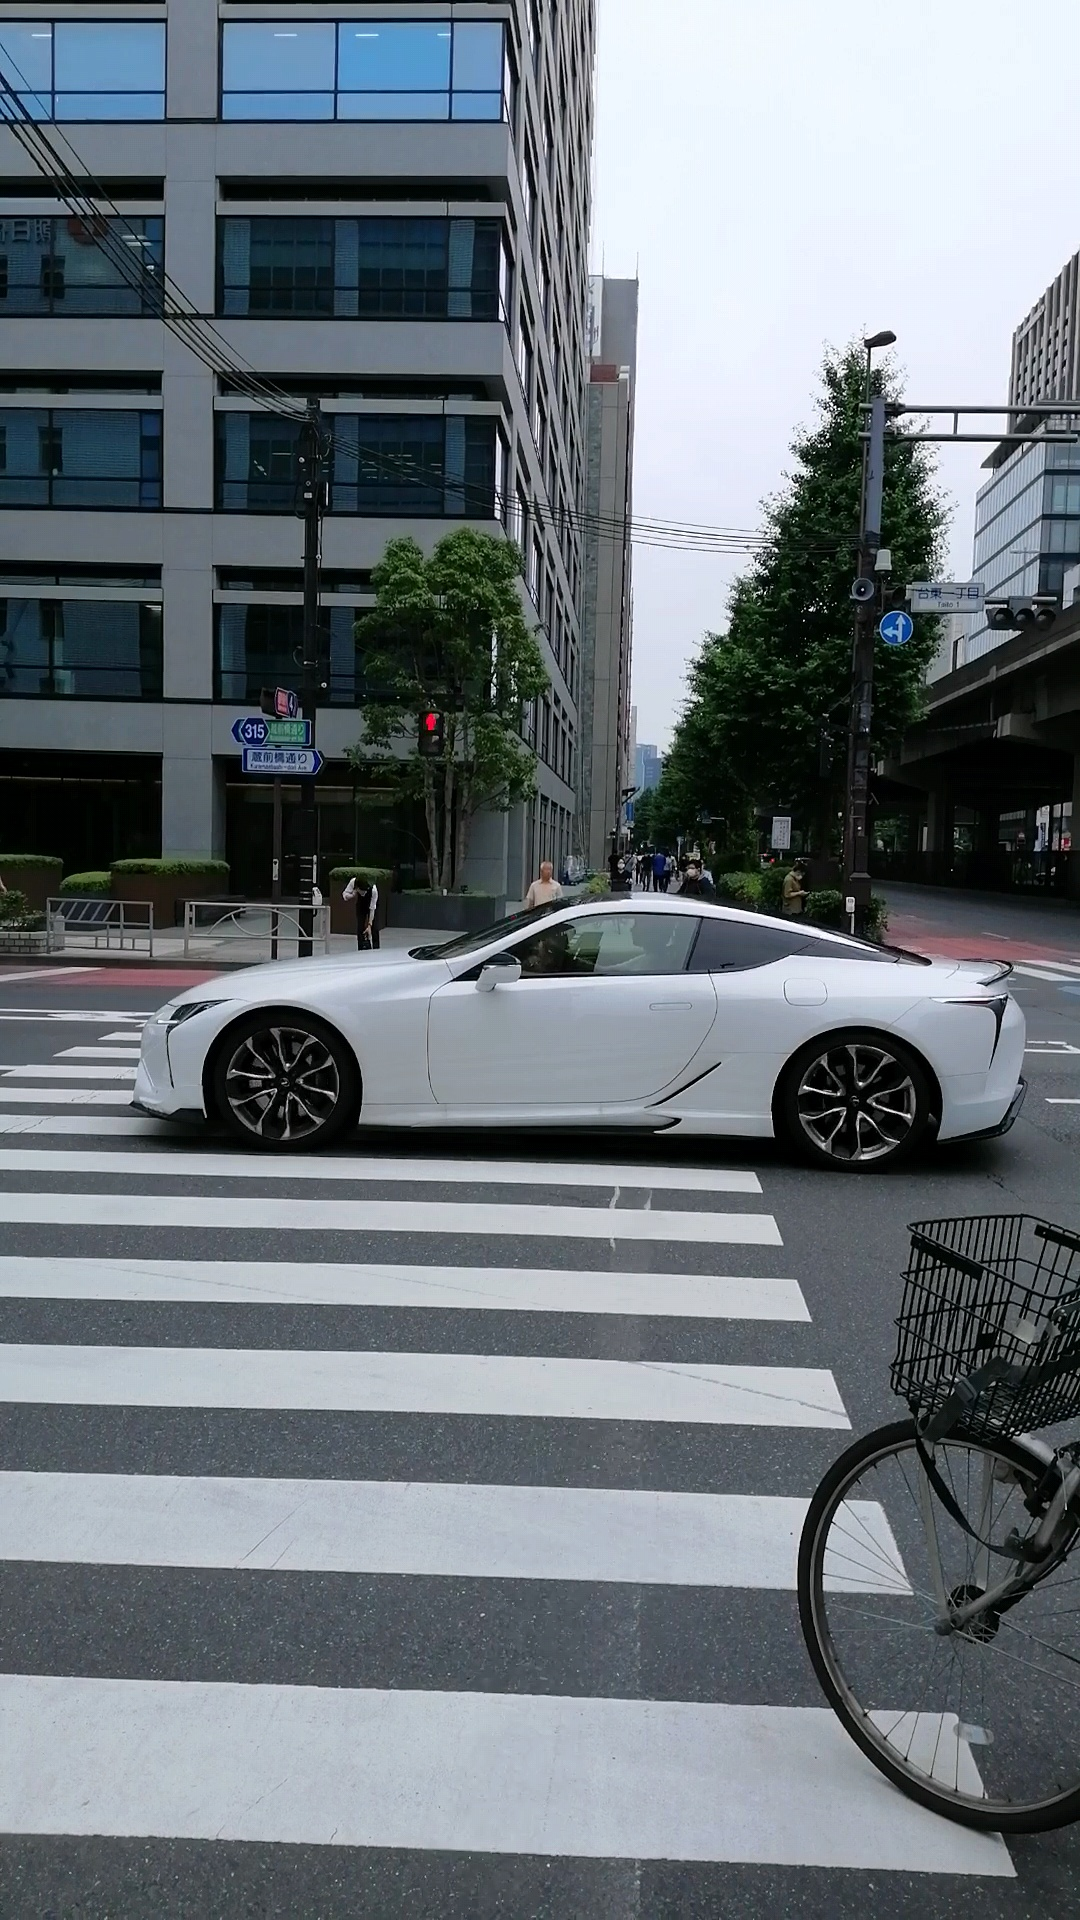red: (415, 709, 444, 760)
